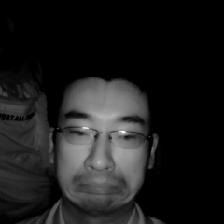sad: (45, 61, 161, 210)
